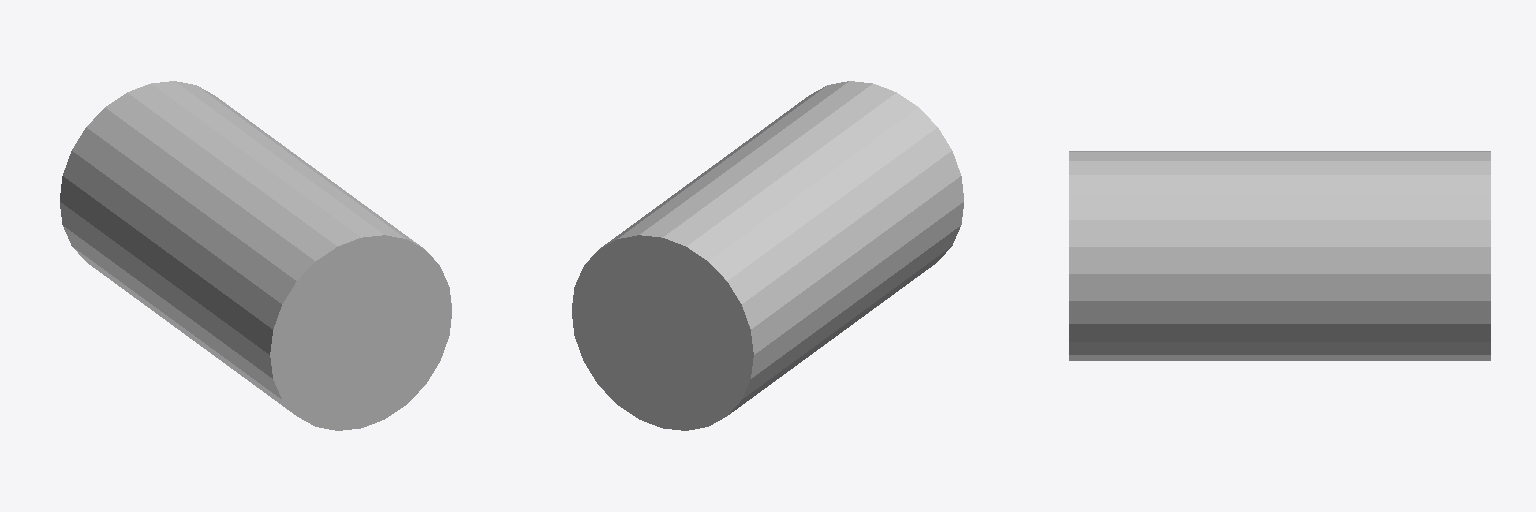
The model's file is original-4.obj.
3 views of the same model, side by side, from view 1: azimuth 30°, elevation 25°; view 2: azimuth 150°, elevation 25°; view 3: azimuth 270°, elevation 25° (orthographic).
Parts seen in each view (by area): view 1: mesh4/mesh4-geometry#mesh4-geometry; view 2: mesh4/mesh4-geometry#mesh4-geometry; view 3: mesh4/mesh4-geometry#mesh4-geometry.
Part boxes in pixels (bbox=[...]): mesh4/mesh4-geometry#mesh4-geometry: bbox=[60, 81, 451, 430]; mesh4/mesh4-geometry#mesh4-geometry: bbox=[572, 81, 963, 430]; mesh4/mesh4-geometry#mesh4-geometry: bbox=[1069, 151, 1490, 360].
Size of the model in its own units: 0.0364 by 0.0364 by 0.0727.